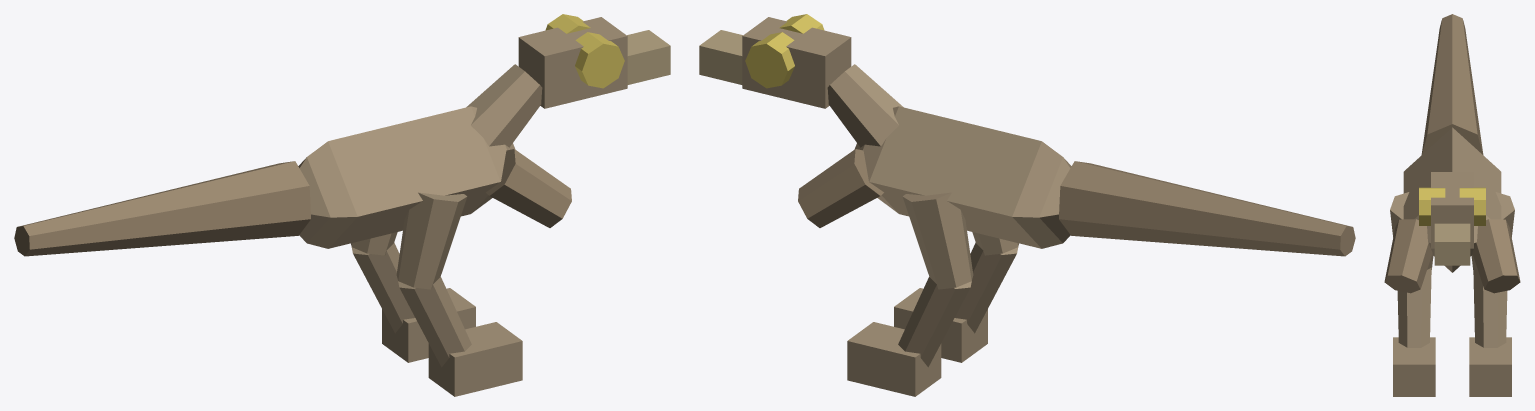
3 renders of one model, left to right at view 1: azimuth 30°, elevation 25°; view 2: azimuth 150°, elevation 25°; view 3: azimuth 270°, elevation 25°, orthographic. The views are drawn at different scales.
Parts seen in each view (by area): view 1: part0, part4, part2, part12, part10, part1, part6, part11, part8, part9, part14, part3 (+1 smaller); view 2: part0, part4, part2, part9, part7, part1, part5, part8, part11, part12, part13, part3 (+1 smaller); view 3: part4, part0, part5, part6, part9, part12, part2, part8, part11, part3, part13, part14 (+2 smaller).
Boxes of the visible parts, <box> form: part0: <box>298,106,515,248</box>; part4: <box>14,161,310,256</box>; part2: <box>518,17,627,108</box>; part12: <box>428,322,522,396</box>; part10: <box>396,192,467,289</box>; part1: <box>466,64,542,147</box>; part6: <box>486,149,571,227</box>; part11: <box>398,277,471,367</box>; part8: <box>351,242,415,333</box>; part9: <box>382,288,475,362</box>; part14: <box>575,32,624,88</box>; part3: <box>627,30,670,84</box>; part0: <box>854,106,1071,248</box>; part4: <box>1059,161,1355,256</box>; part2: <box>742,17,851,108</box>; part9: <box>847,322,941,396</box>; part7: <box>902,192,973,289</box>; part1: <box>827,64,903,147</box>; part5: <box>798,149,883,227</box>; part8: <box>898,277,971,367</box>; part11: <box>954,242,1018,333</box>; part12: <box>894,288,987,362</box>; part13: <box>745,32,794,88</box>; part3: <box>699,30,742,84</box>; part4: <box>1421,14,1483,154</box>; part0: <box>1403,127,1501,272</box>; part5: <box>1472,219,1520,293</box>; part6: <box>1384,219,1432,293</box>; part9: <box>1469,337,1511,396</box>; part12: <box>1393,337,1435,396</box>; part2: <box>1431,172,1473,248</box>; part8: <box>1473,267,1507,347</box>; part11: <box>1397,267,1431,347</box>; part3: <box>1434,223,1470,265</box>; part13: <box>1459,187,1485,225</box>; part14: <box>1419,187,1445,225</box>.
Size of the model in its own units: 5.08 by 2.29 by 1.14.
